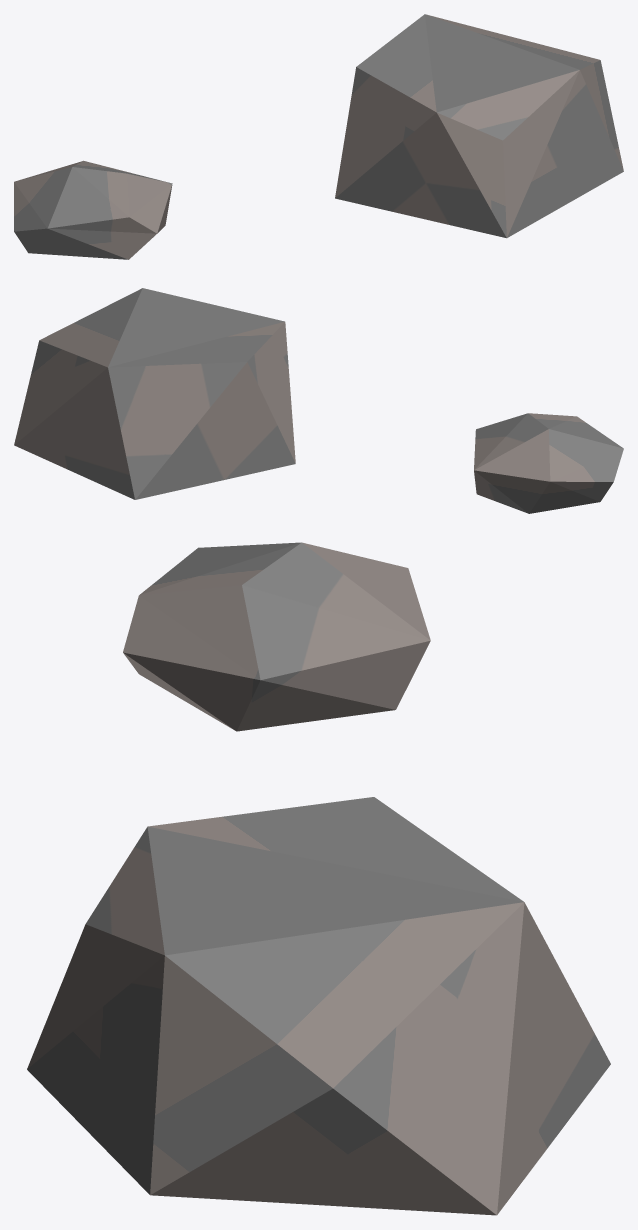
Rendered from Planta_Piedras_007.fbx.
3 views of the same model, one above another, from view 1: azimuth 30°, elevation 25°; view 2: azimuth 150°, elevation 25°; view 3: azimuth 270°, elevation 25° (orthographic). The views are drawn at different scales.
Visible parts, largest first — view 1: Rock3; view 2: Rock3; view 3: Rock3.
Part boxes in pixels (box(x1,y1,x2,y2)): Rock3: box(14, 14, 623, 259); Rock3: box(14, 288, 623, 513); Rock3: box(27, 542, 610, 1215).
Size of the model in its own units: 23.65 by 5.17 by 10.65.
2 materials, 2 textured.
